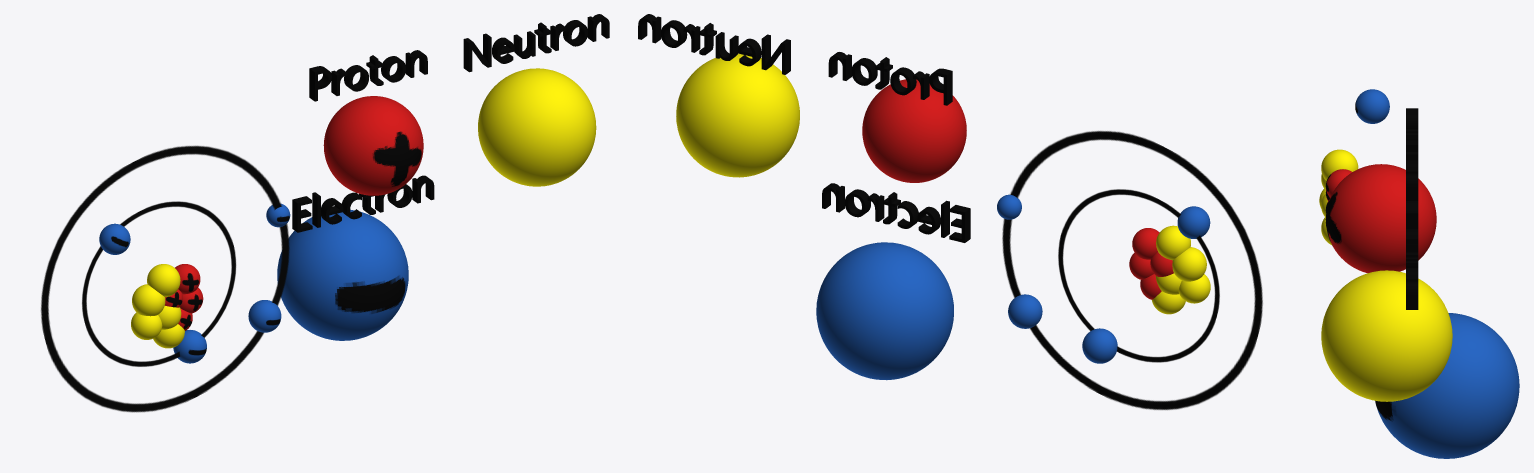
The model's file is beryllium.glb.
The picture shows the model from 3 angles, left to right: view 1: azimuth 30°, elevation 25°; view 2: azimuth 150°, elevation 25°; view 3: azimuth 270°, elevation 25°; orthographic projection. The views are drawn at different scales.
Parts seen in each view (by area): view 1: Object_35, Object_39, Object_37, Object_27, node_id155_24, node_id114_21, node_id127_23, Object_25, Object_29, Object_11, Object_7, Object_33 (+2 smaller); view 2: Object_35, Object_39, Object_37, Object_27, node_id114_21, node_id155_24, node_id127_23, Object_25, Object_33, Object_29, Object_7, Object_13 (+3 smaller); view 3: Object_39, Object_35, Object_37, node_id155_24, node_id127_23, Object_13, Object_11, Object_23.
Boxes of the visible parts, x1=… form: Object_35: x1=277, y1=209, x2=408, y2=340; Object_39: x1=478, y1=68, x2=596, y2=186; Object_37: x1=323, y1=96, x2=423, y2=195; Object_27: x1=41, y1=145, x2=289, y2=412; node_id155_24: x1=463, y1=14, x2=609, y2=72; node_id114_21: x1=292, y1=175, x2=434, y2=232; node_id127_23: x1=309, y1=50, x2=427, y2=101; Object_25: x1=82, y1=201, x2=236, y2=366; Object_29: x1=248, y1=300, x2=281, y2=332; Object_11: x1=147, y1=264, x2=180, y2=297; Object_7: x1=132, y1=284, x2=165, y2=316; Object_33: x1=173, y1=330, x2=206, y2=363; Object_35: x1=816, y1=242, x2=953, y2=380; Object_39: x1=676, y1=53, x2=799, y2=177; Object_37: x1=862, y1=79, x2=966, y2=182; Object_27: x1=1002, y1=131, x2=1262, y2=409; node_id114_21: x1=822, y1=183, x2=970, y2=242; node_id155_24: x1=638, y1=14, x2=790, y2=74; node_id127_23: x1=828, y1=52, x2=952, y2=105; Object_25: x1=1058, y1=189, x2=1219, y2=362; Object_33: x1=1082, y1=328, x2=1117, y2=363; Object_29: x1=1008, y1=294, x2=1042, y2=328; Object_7: x1=1172, y1=247, x2=1206, y2=281; Object_13: x1=1177, y1=206, x2=1210, y2=238; Object_39: x1=1321, y1=270, x2=1452, y2=401; Object_35: x1=1375, y1=313, x2=1519, y2=458; Object_37: x1=1325, y1=164, x2=1436, y2=273; node_id155_24: x1=1406, y1=201, x2=1418, y2=309; node_id127_23: x1=1406, y1=108, x2=1418, y2=200; Object_13: x1=1355, y1=89, x2=1389, y2=123; Object_11: x1=1321, y1=149, x2=1358, y2=180; Object_23: x1=1325, y1=169, x2=1352, y2=197.
Size of the model in its own units: 1.21 by 0.6055 by 0.3114.
18 materials, 18 textured.
